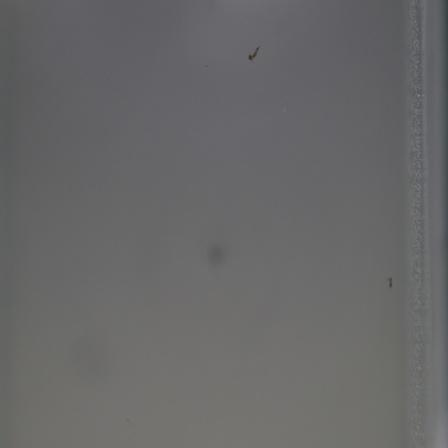Jentik-Nyamuk: (245, 40, 262, 67), (382, 271, 397, 292)
